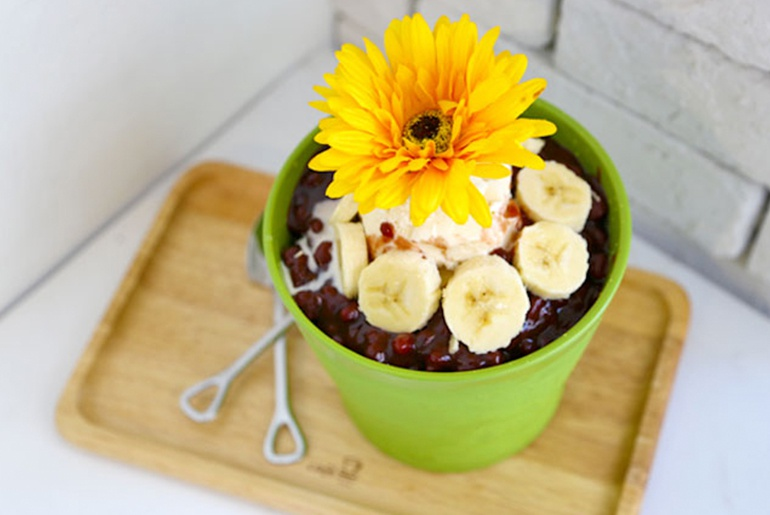flowerpot: (264, 97, 632, 473)
